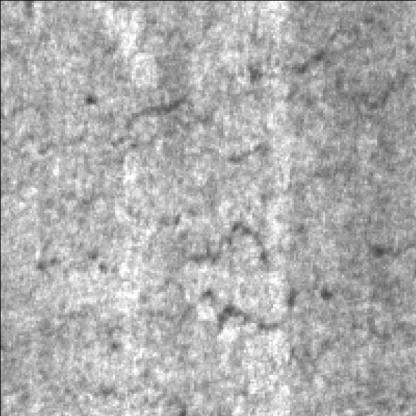crazing: (42, 210, 341, 354), (227, 12, 416, 144)
